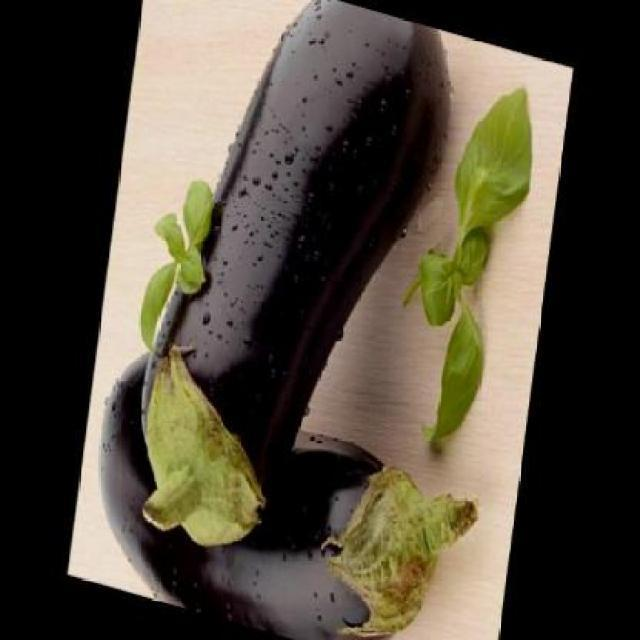eggplant: (121, 0, 462, 600), (78, 333, 488, 639)
